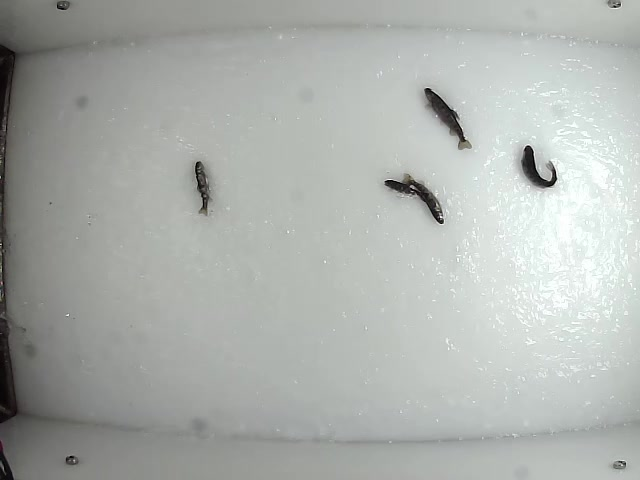fish: (426, 84, 474, 151), (399, 171, 444, 224), (520, 144, 559, 189), (190, 159, 212, 216), (383, 180, 430, 200)
